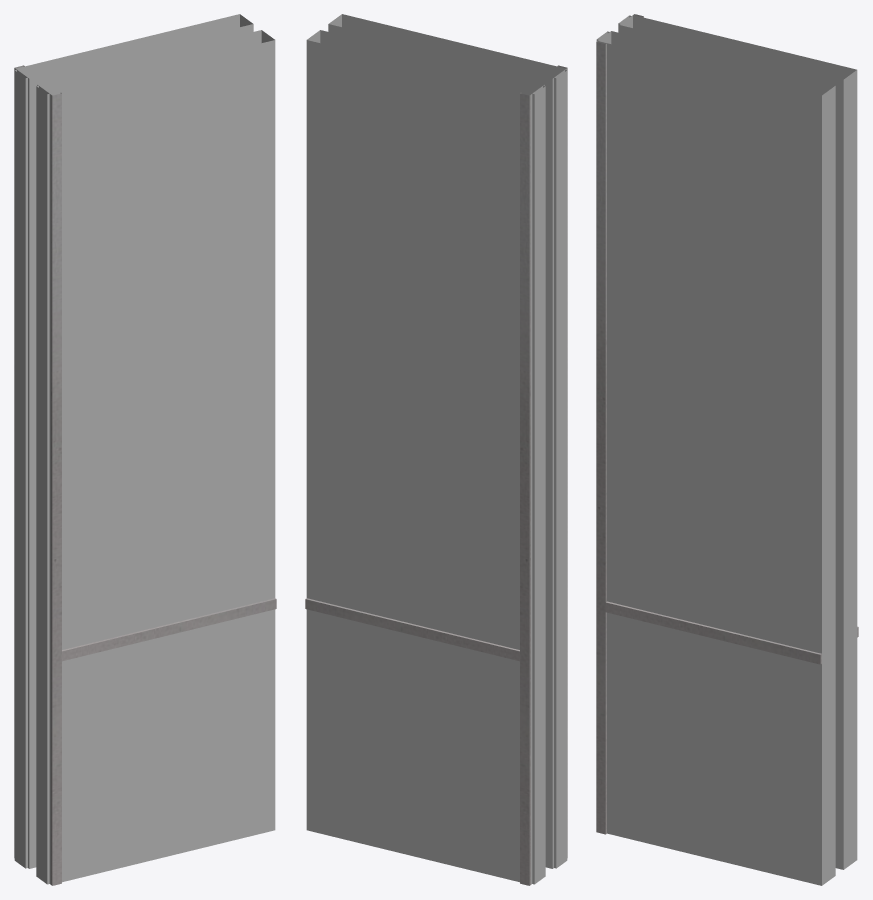
Rendered from ElevatorDoor.fbx.
The picture shows the model from 3 angles, left to right: view 1: azimuth 30°, elevation 25°; view 2: azimuth 150°, elevation 25°; view 3: azimuth 330°, elevation 25°; orthographic projection.
Parts seen in each view (by area): view 1: ElevatorDoor; view 2: ElevatorDoor; view 3: ElevatorDoor.
Boxes of the visible parts, box(x1,y1,x2,y2) form: ElevatorDoor: box(14, 14, 276, 885); ElevatorDoor: box(305, 14, 567, 885); ElevatorDoor: box(596, 14, 858, 885).
Bounding box in the file's own units: 0.96 × 3.2 × 0.28.
